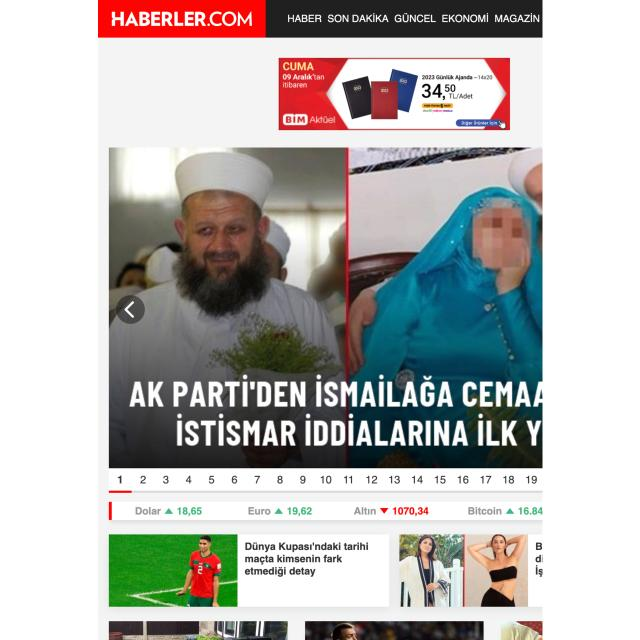logo: (98, 0, 266, 37)
navigation: (285, 10, 541, 26)
